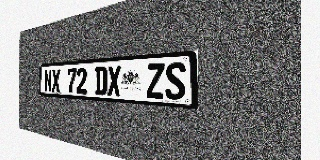2: (77, 67, 87, 94)
7: (67, 68, 76, 94)
D: (95, 66, 107, 95)
N: (44, 69, 52, 92)
S: (165, 62, 186, 100)
X: (107, 65, 121, 96), (52, 69, 60, 93)
Z: (146, 63, 164, 99)
